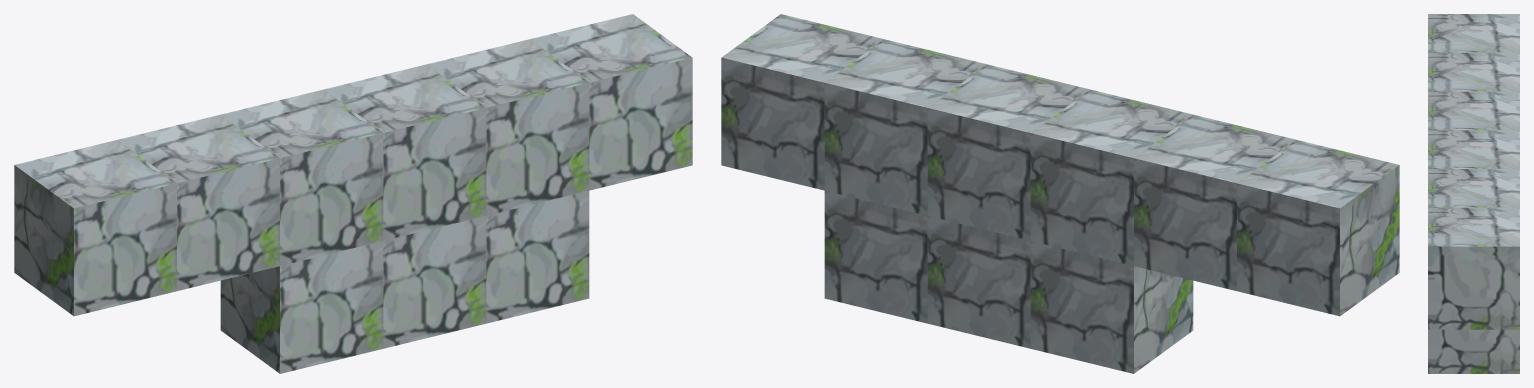
The model's file is BrickWall6.fbx.
The picture shows the model from 3 angles, left to right: view 1: azimuth 30°, elevation 25°; view 2: azimuth 150°, elevation 25°; view 3: azimuth 270°, elevation 25°; orthographic projection. The views are drawn at different scales.
Visible parts, largest first — view 1: pCube124; view 2: pCube124; view 3: pCube124.
Boxes of the visible parts, box(x1,y1,x2,y2) form: pCube124: box(14, 14, 692, 373); pCube124: box(721, 14, 1399, 373); pCube124: box(1428, 14, 1519, 373).
Bounding box in the file's own units: 2400 × 800 × 400.
